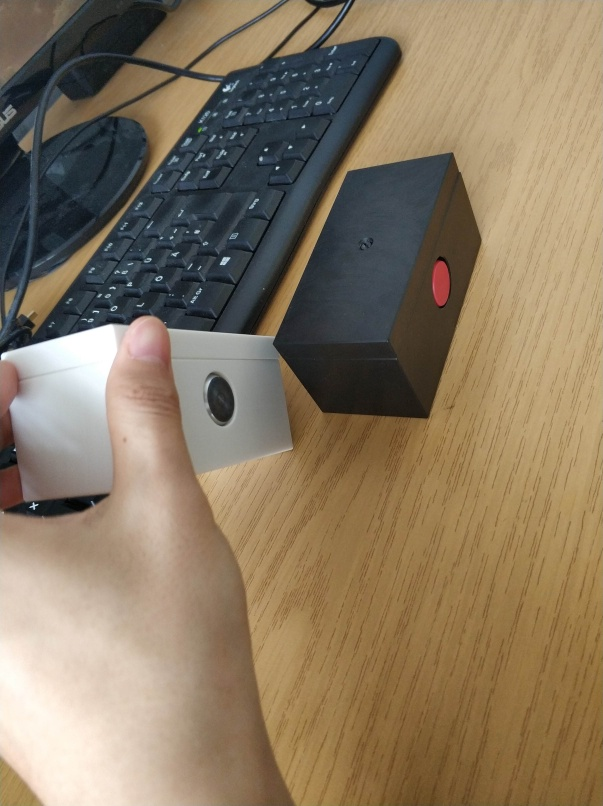black+black+red: (275, 150, 482, 421)
white+white+silver: (1, 319, 301, 505)
